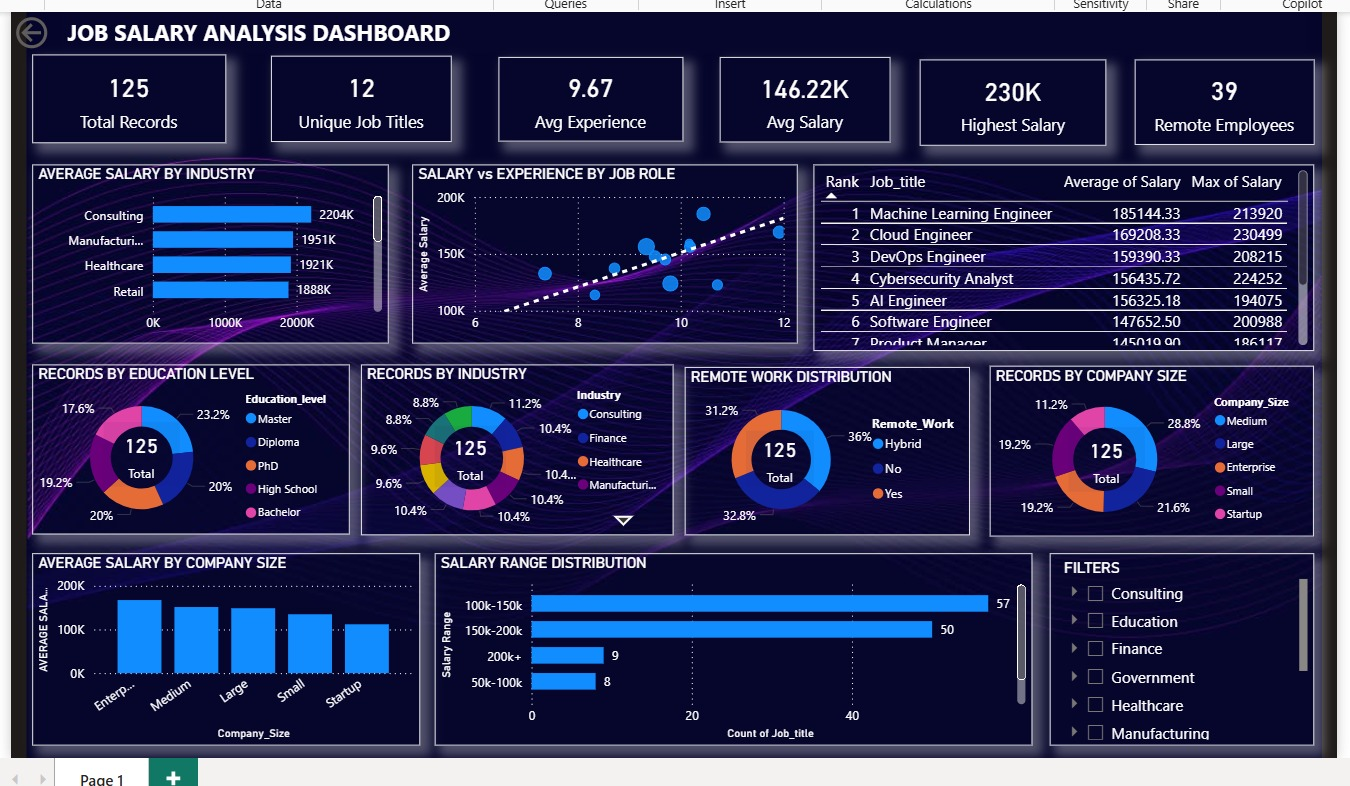

The dashboard page shown, as its layout file describes it:
{"tool":"powerbi","page":{"name":"Page 1","canvas":[1280,720],"ordinal":0},"visuals":[{"type":"card","fields":{"Values":["job_salary_prediction_datasett.Total Records"]},"box":[20,41.2,187,85.7],"z":0},{"type":"card","fields":{"Values":["job_salary_prediction_datasett.Unique Job Titles"]},"box":[250.5,42.3,174.8,83.5],"z":1000},{"type":"card","fields":{"Values":["job_salary_prediction_datasett.Avg Experience"]},"box":[470.9,43.4,178.1,81.3],"z":2000},{"type":"card","fields":{"Values":["job_salary_prediction_datasett.Avg Salary"]},"box":[684.6,43.4,164.8,82.4],"z":3000},{"type":"card","fields":{"Values":["job_salary_prediction_datasett.Highest Salary"]},"box":[877.2,45.6,180.3,83.5],"z":4000},{"type":"card","fields":{"Values":["job_salary_prediction_datasett.Remote Employees"]},"box":[1084.2,45.6,173.7,82.4],"z":5000},{"type":"clusteredBarChart","title":"AVERAGE SALARY BY INDUSTRY","fields":{"Category":["job_salary_prediction_datasett.Industry"],"Y":["Sum(job_salary_prediction_datasett.Salary)"]},"box":[20,146.9,344,172.5],"z":6000},{"type":"scatterChart","title":"SALARY vs EXPERIENCE BY JOB ROLE","fields":{"Category":["job_salary_prediction_datasett.Job_title"],"X":["Avg(job_salary_prediction_datasett.Experience(Yrs))"],"Y":["Avg(job_salary_prediction_datasett.Salary)"],"Size":["Sum(job_salary_prediction_datasett.Skills_Count)"]},"box":[387.4,146.9,371.8,172.5],"z":7000},{"type":"tableEx","fields":{"Values":["job_salary_prediction_datasett.Rank","job_salary_prediction_datasett.Job_title","Avg(job_salary_prediction_datasett.Salary)","Max(job_salary_prediction_datasett.Salary)1"]},"box":[774.8,146.9,483.1,180.3],"z":8000},{"type":"actionButton","box":[0,0,100,40],"z":9000},{"type":"donutChart","title":"RECORDS BY EDUCATION LEVEL","fields":{"Category":["job_salary_prediction_datasett.Education_level"],"Y":["CountNonNull(job_salary_prediction_datasett.Job_title)"]},"box":[20,340.6,306.1,163.6],"z":10000},{"type":"donutChart","title":"RECORDS BY INDUSTRY","fields":{"Y":["CountNonNull(job_salary_prediction_datasett.Job_title)"],"Category":["job_salary_prediction_datasett.Industry"]},"box":[338.4,340.6,301.7,164.8],"z":11000},{"type":"card","fields":{"Values":["job_salary_prediction_datasett.Total"]},"box":[89.1,396.3,73.5,62.3],"z":12000},{"type":"donutChart","title":"REMOTE WORK DISTRIBUTION","fields":{"Y":["CountNonNull(job_salary_prediction_datasett.Job_title)"],"Category":["job_salary_prediction_datasett.Remote_Work"]},"box":[650.1,342.9,275,162.5],"z":13000},{"type":"donutChart","title":"RECORDS BY COMPANY SIZE","fields":{"Y":["CountNonNull(job_salary_prediction_datasett.Job_title)"],"Category":["job_salary_prediction_datasett.Company_Size"]},"box":[945.1,341.7,312.8,164.8],"z":14000},{"type":"clusteredColumnChart","title":"AVERAGE SALARY BY COMPANY SIZE","fields":{"Y":["Avg(job_salary_prediction_datasett.Salary)"],"Category":["job_salary_prediction_datasett.Company_Size"]},"box":[20,522.1,374,185.9],"z":15000},{"type":"clusteredBarChart","title":"SALARY RANGE DISTRIBUTION","fields":{"Category":["job_salary_prediction_datasett.Salary Range"],"Y":["CountNonNull(job_salary_prediction_datasett.Job_title)"]},"box":[408.5,522.1,576.6,185.9],"z":16000},{"type":"card","fields":{"Values":["job_salary_prediction_datasett.Total"]},"box":[408.5,399.6,69,59],"z":17000},{"type":"card","fields":{"Values":["job_salary_prediction_datasett.Total"]},"box":[709.1,404.1,65.7,54.5],"z":18000},{"type":"card","fields":{"Values":["job_salary_prediction_datasett.Total"]},"box":[1020.8,400.7,73.5,62.3],"z":19000},{"type":"textbox","box":[49,0,1198.9,40.1],"z":20000},{"type":"slicer","fields":{"Values":["job_salary_prediction_datasett.Industry","job_salary_prediction_datasett.Location","job_salary_prediction_datasett.Job_title","job_salary_prediction_datasett.Education_level","job_salary_prediction_datasett.Remote_Work"]},"box":[1003,522.1,254.9,185.9],"z":21000}]}

Visuals, with their boxes in screenshot pixels (x1, y1, x2, y2):
card - job_salary_prediction_datasett.Total Records: detection(0, 11, 158, 107)
card - job_salary_prediction_datasett.Unique Job Titles: detection(206, 12, 402, 105)
card - job_salary_prediction_datasett.Avg Experience: detection(453, 13, 652, 104)
card - job_salary_prediction_datasett.Avg Salary: detection(692, 13, 876, 105)
card - job_salary_prediction_datasett.Highest Salary: detection(907, 16, 1108, 109)
card - job_salary_prediction_datasett.Remote Employees: detection(1138, 16, 1332, 108)
"AVERAGE SALARY BY INDUSTRY" clusteredBarChart: detection(0, 129, 333, 322)
"SALARY vs EXPERIENCE BY JOB ROLE" scatterChart: detection(359, 129, 775, 322)
tableEx - job_salary_prediction_datasett.Rank x job_salary_prediction_datasett.Job_title: detection(792, 129, 1332, 331)
actionButton: detection(0, 0, 38, 10)
"RECORDS BY EDUCATION LEVEL" donutChart: detection(0, 346, 291, 529)
"RECORDS BY INDUSTRY" donutChart: detection(304, 346, 642, 530)
card - job_salary_prediction_datasett.Total: detection(26, 408, 108, 478)
"REMOTE WORK DISTRIBUTION" donutChart: detection(653, 348, 960, 530)
"RECORDS BY COMPANY SIZE" donutChart: detection(983, 347, 1332, 531)
"AVERAGE SALARY BY COMPANY SIZE" clusteredColumnChart: detection(0, 549, 367, 756)
"SALARY RANGE DISTRIBUTION" clusteredBarChart: detection(383, 549, 1027, 756)
card - job_salary_prediction_datasett.Total: detection(383, 412, 460, 478)
card - job_salary_prediction_datasett.Total: detection(719, 417, 792, 478)
card - job_salary_prediction_datasett.Total: detection(1067, 413, 1150, 482)
textbox: detection(0, 0, 1321, 10)
slicer - job_salary_prediction_datasett.Industry x job_salary_prediction_datasett.Location: detection(1047, 549, 1332, 756)
